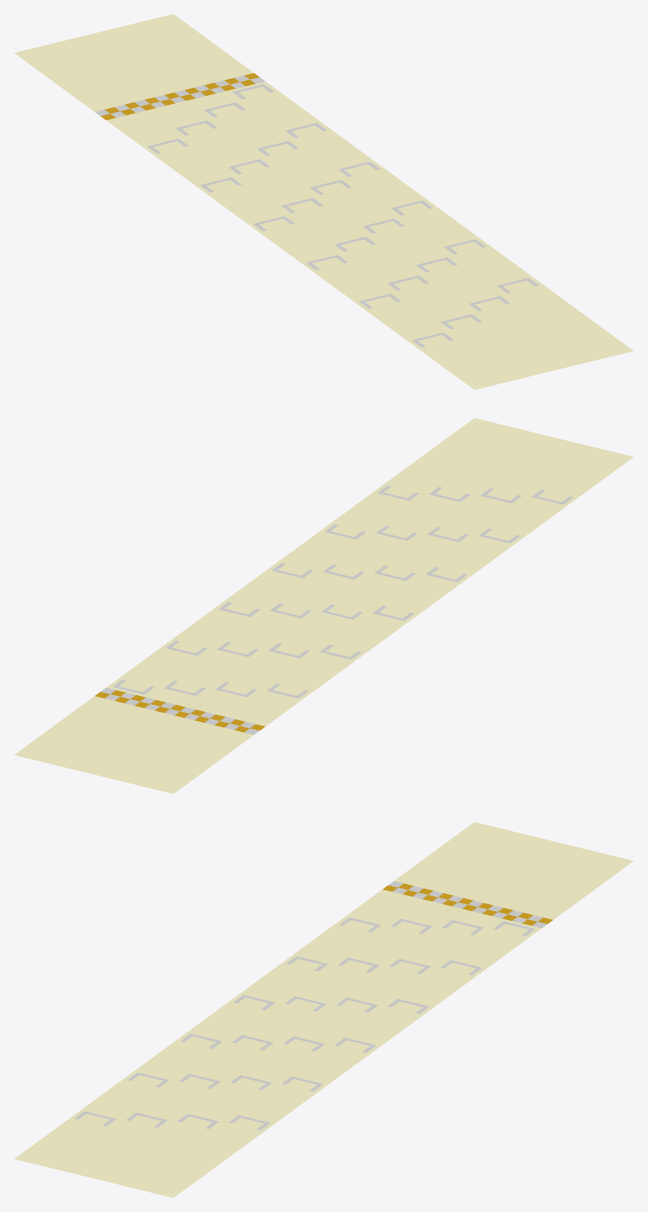
Rendered from Island TEST Track.fbx.
The picture shows the model from 3 angles, top to bottom: view 1: azimuth 30°, elevation 25°; view 2: azimuth 150°, elevation 25°; view 3: azimuth 330°, elevation 25°; orthographic projection.
Parts seen in each view (by area): view 1: G-Object.001; view 2: G-Object.001; view 3: G-Object.001.
Part boxes in pixels (left/top/right/bottom): G-Object.001: left=14, top=14, right=633, bottom=389; G-Object.001: left=14, top=418, right=633, bottom=793; G-Object.001: left=14, top=822, right=633, bottom=1197.
Size of what is drawn, in the model's own units: 2000 by 0.00163 by 10000.
